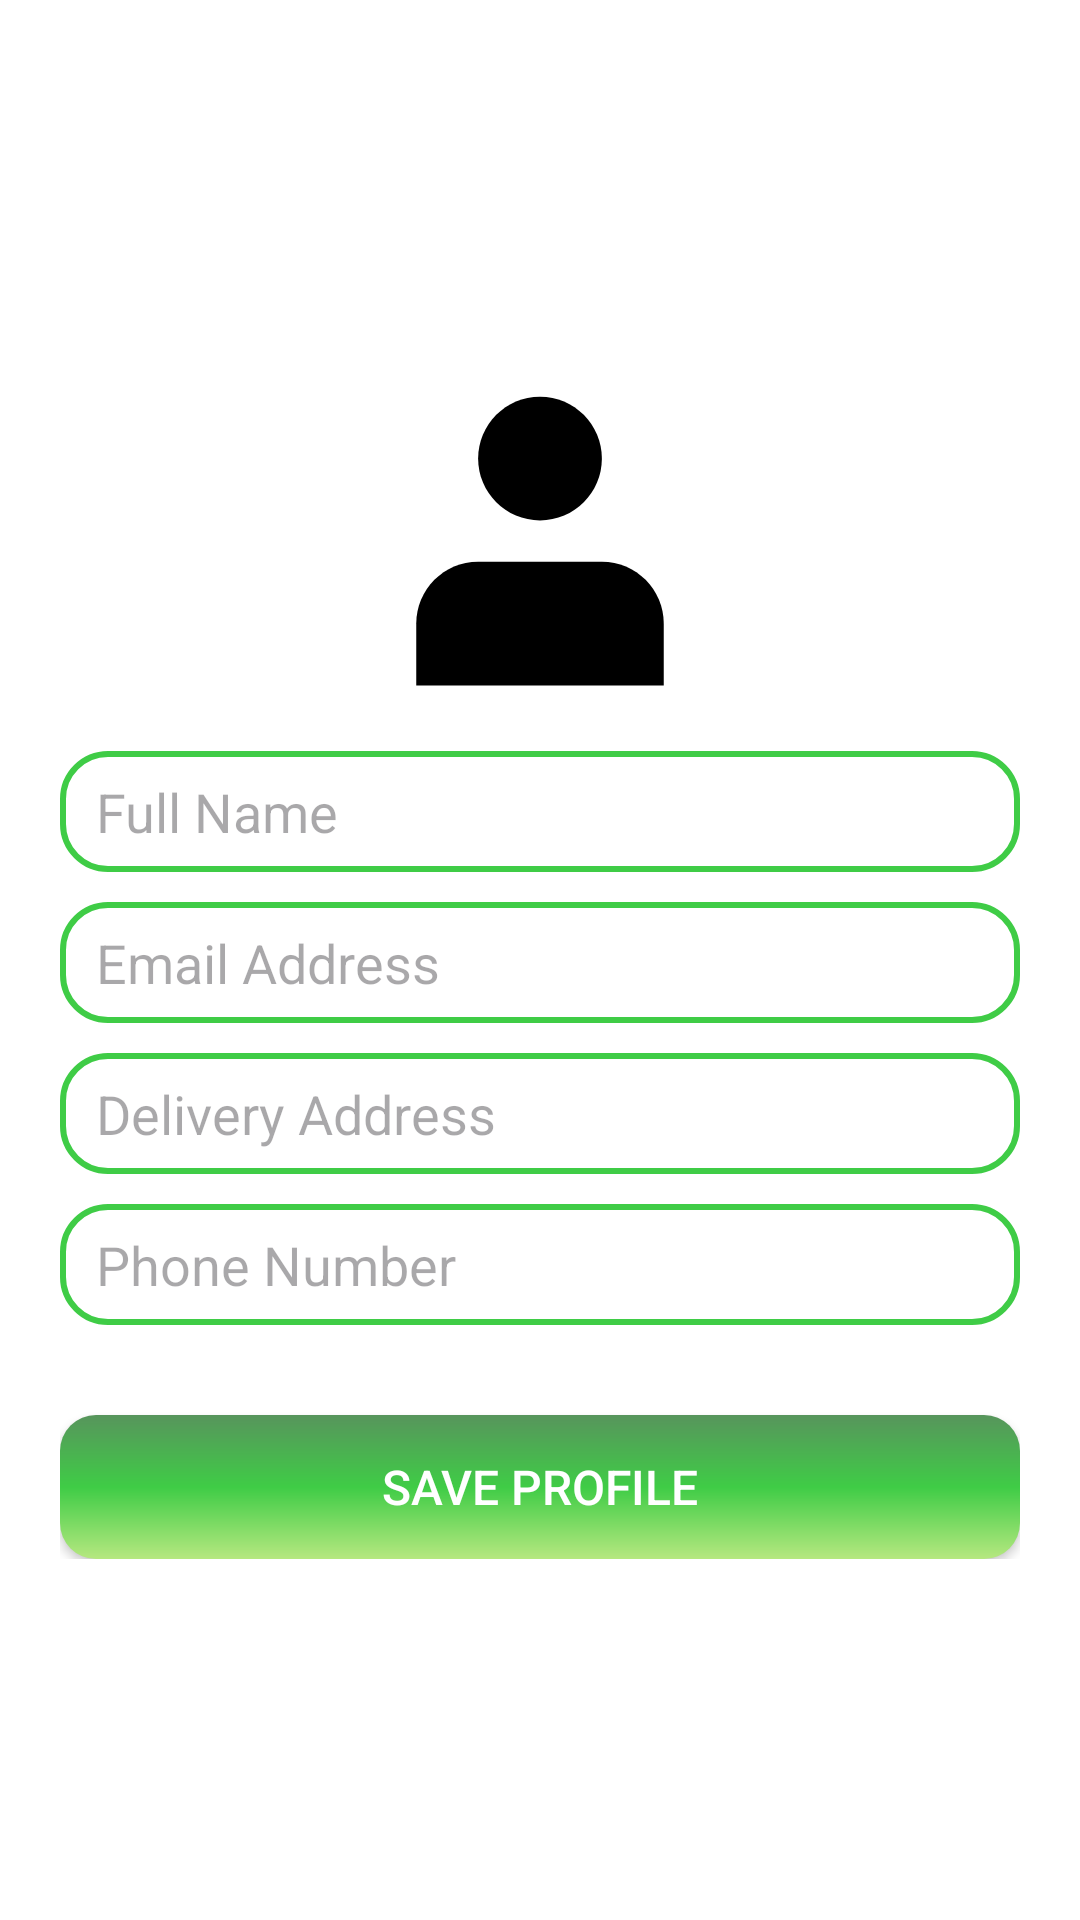

Screen size 1080px x 1920px. Icon name, then its box in pixels as (x1, y1, x2, y2):
user: (416, 396, 664, 686)
